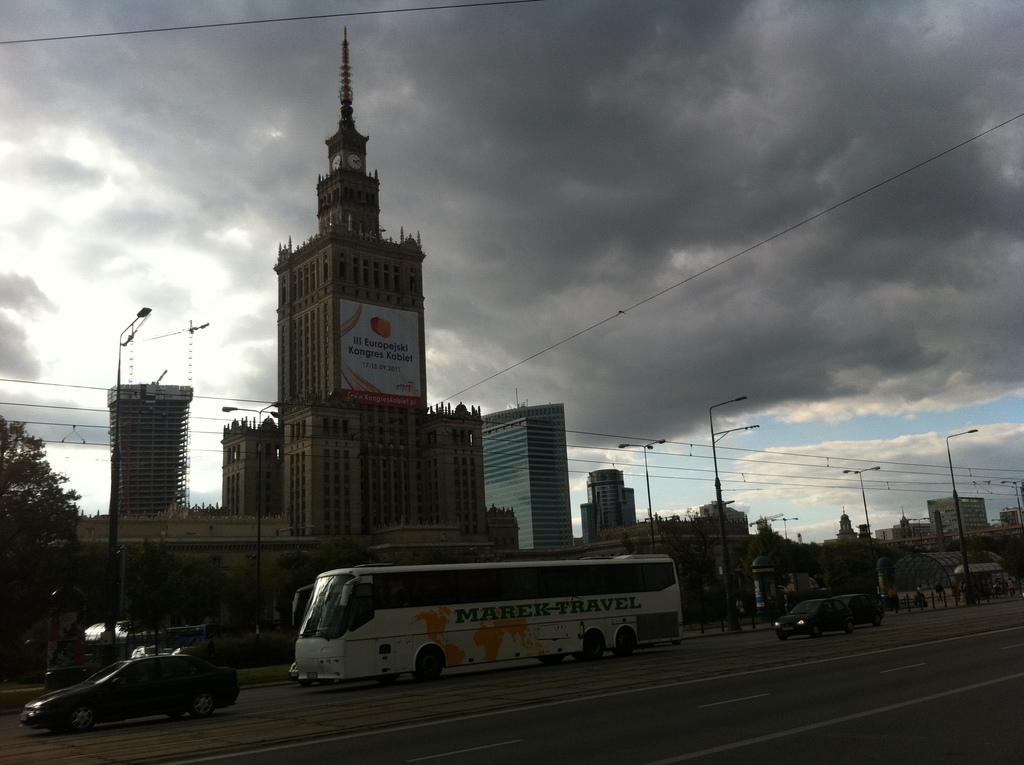Bus: (289, 551, 684, 683)
